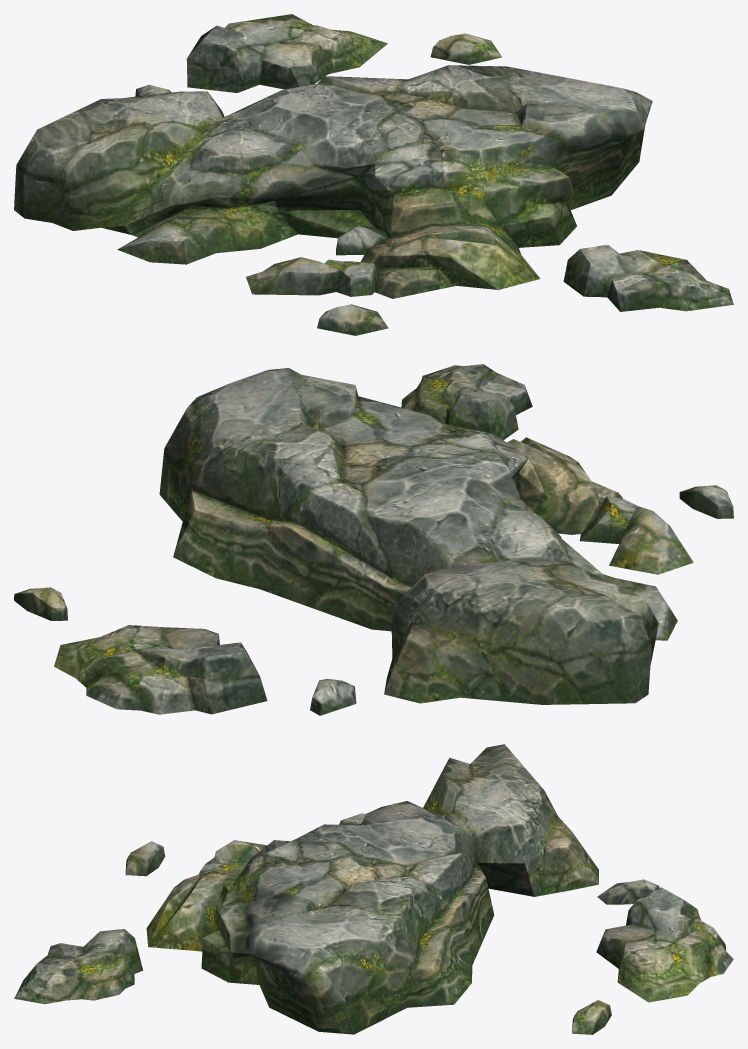
The model's file is 4004_Item_shitou_3.FBX.
3 views of the same model, one above another, from view 1: azimuth 30°, elevation 25°; view 2: azimuth 150°, elevation 25°; view 3: azimuth 270°, elevation 25° (orthographic). The views are drawn at different scales.
Visible parts, largest first — view 1: 4004_Item_shitou_3; view 2: 4004_Item_shitou_3; view 3: 4004_Item_shitou_3.
Part boxes in pixels (left/top/right/bottom): 4004_Item_shitou_3: left=14, top=14, right=733, bottom=335; 4004_Item_shitou_3: left=14, top=364, right=733, bottom=715; 4004_Item_shitou_3: left=14, top=744, right=733, bottom=1034.
Size of the model in its own units: 320 by 54.02 by 421.
